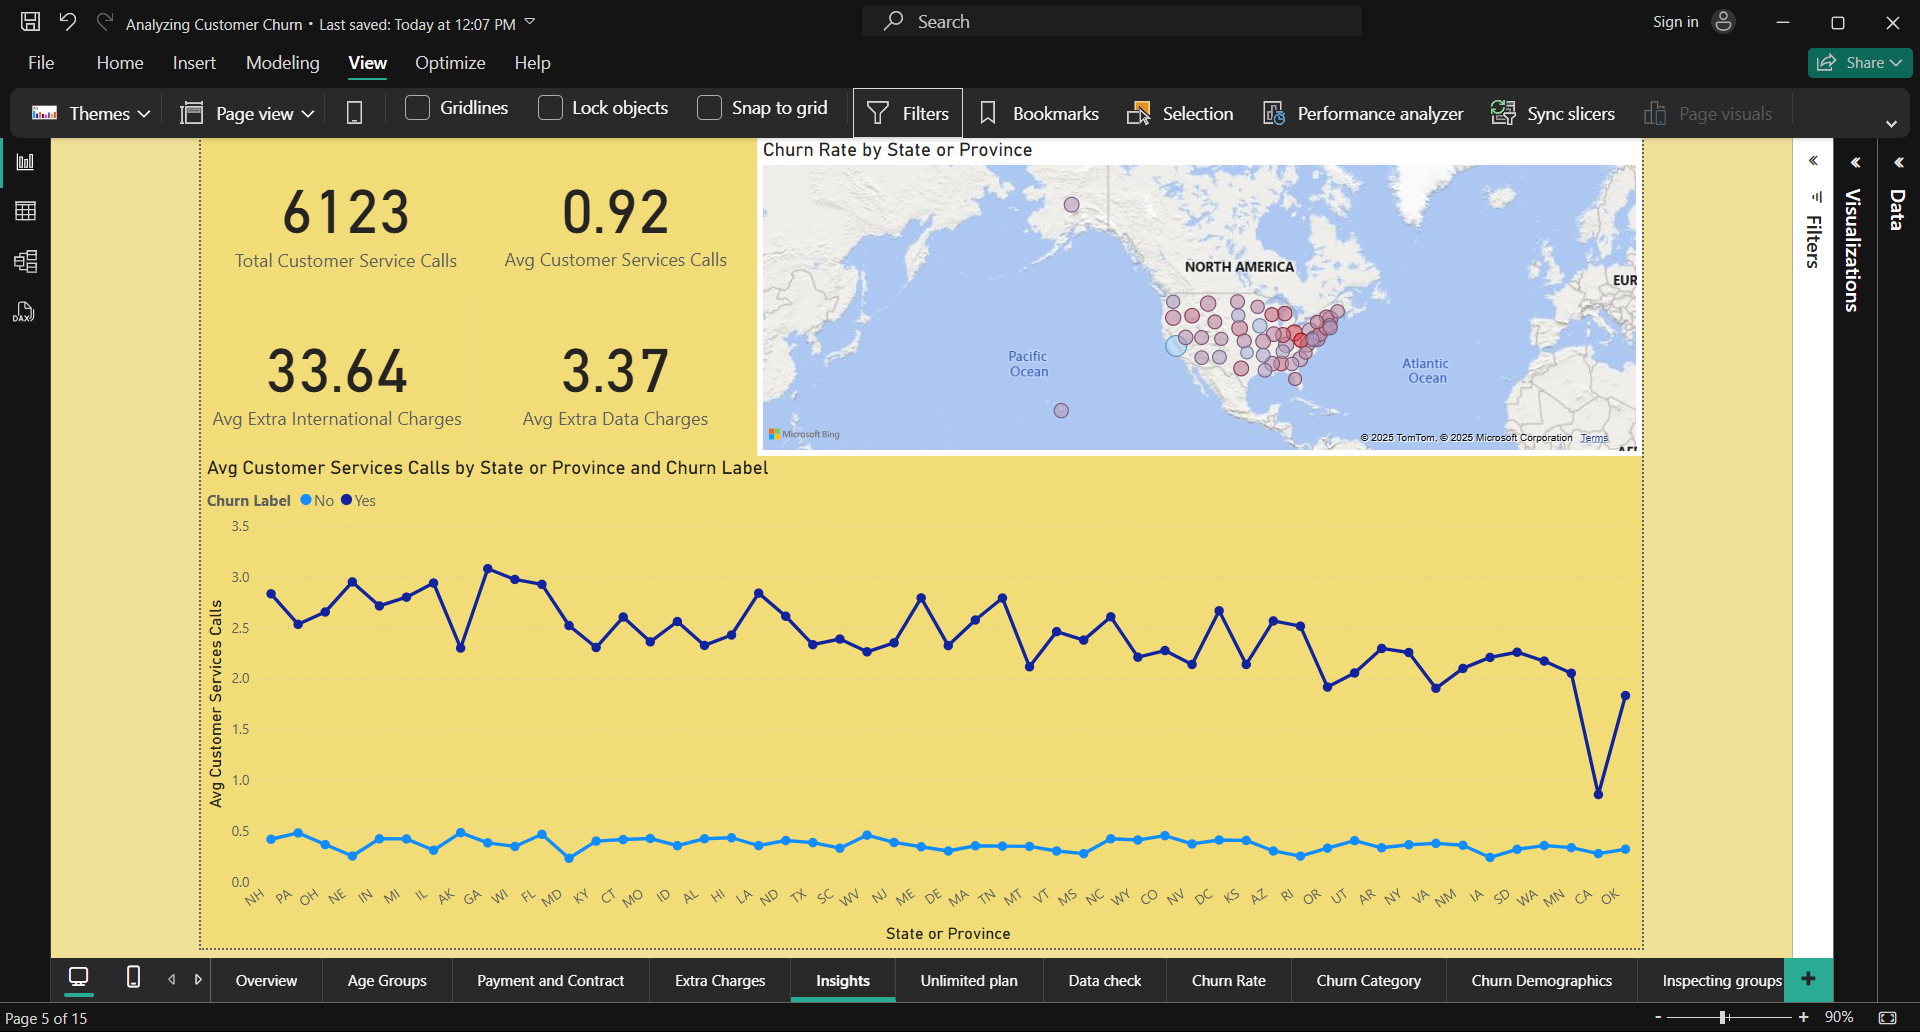

The dashboard page shown, as its layout file describes it:
{"tool":"powerbi","page":{"name":"Insights","canvas":[1280,720],"ordinal":4},"visuals":[{"type":"card","fields":{"Values":["Sum(Databel - Data.Customer Service Calls)"]},"box":[0,0,257.6,139.3],"z":0},{"type":"card","fields":{"Values":["Databel - Data.Avg Customer Services Calls"]},"box":[241.9,0,252.9,138.8],"z":1},{"type":"card","fields":{"Values":["Databel - Data.Avg Extra International Charges"]},"box":[0,139.3,241.9,143.3],"z":2},{"type":"card","fields":{"Values":["Databel - Data.Avg Extra Data Charges"]},"box":[241.9,139.3,252.4,143.3],"z":3},{"type":"lineChart","fields":{"Y":["Databel - Data.Avg Customer Services Calls"],"Series":["Databel - Data.Churn Label"],"Category":["Databel - Data.State or Province"]},"box":[0,282.6,1280.3,437.7],"z":4},{"type":"map","fields":{"Category":["Databel - Data.State or Province"],"Size":["Databel - Data.Churn Rate"]},"box":[494.2,0,786,282.6],"z":5}]}

Visuals, with their boxes on the page's 1280x720 design canvas (x1, y1, x2, y2). These are canvas units, not pixel positions in the 1920x1032 screenshot, which may show the page scaled, cropped or inside an application window:
card - Sum(Databel - Data.Customer Service Calls): 0, 0, 258, 139
card - Databel - Data.Avg Customer Services Calls: 242, 0, 495, 139
card - Databel - Data.Avg Extra International Charges: 0, 139, 242, 283
card - Databel - Data.Avg Extra Data Charges: 242, 139, 494, 283
lineChart - Databel - Data.Avg Customer Services Calls x Databel - Data.Churn Label: 0, 283, 1280, 720
map - Databel - Data.State or Province x Databel - Data.Churn Rate: 494, 0, 1280, 283
